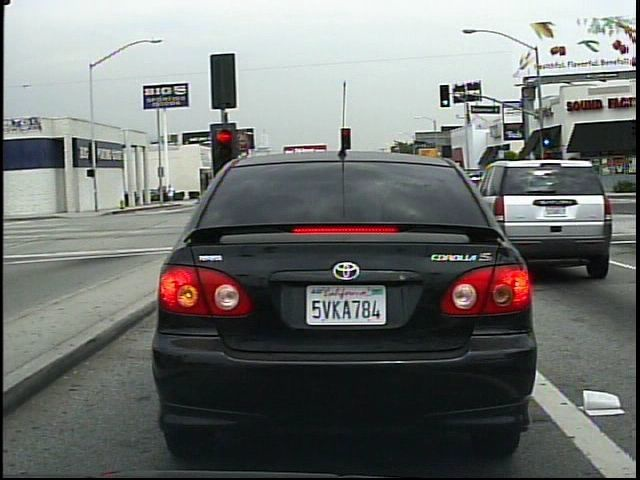person: (516, 166, 532, 198), (166, 181, 177, 207)
